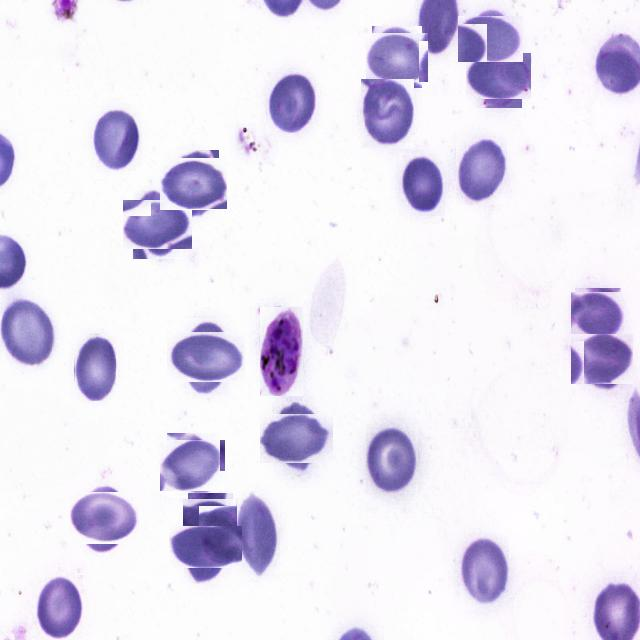red blood cell: (174, 325, 238, 389), (236, 491, 280, 580), (266, 408, 328, 470), (460, 534, 509, 611), (73, 488, 135, 548), (361, 79, 414, 148), (366, 424, 418, 494), (0, 299, 54, 366), (164, 154, 224, 214), (456, 135, 507, 205), (128, 195, 188, 254), (90, 106, 142, 171), (164, 436, 222, 494), (176, 518, 234, 576), (574, 330, 630, 388), (34, 574, 83, 640), (369, 29, 425, 85), (462, 11, 518, 67), (266, 71, 316, 133), (471, 48, 526, 104), (399, 153, 445, 216), (74, 334, 116, 401), (573, 290, 623, 339), (186, 496, 235, 546)
schizont: (260, 307, 303, 396)
